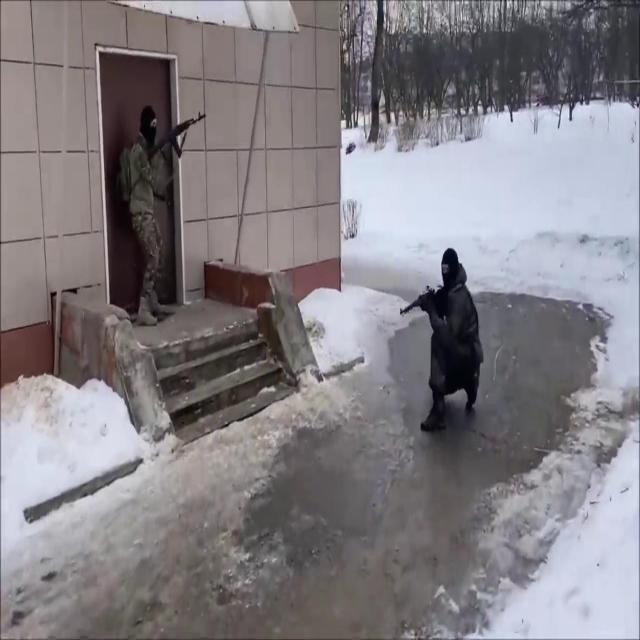pistol: (146, 110, 207, 164), (400, 284, 444, 316)
